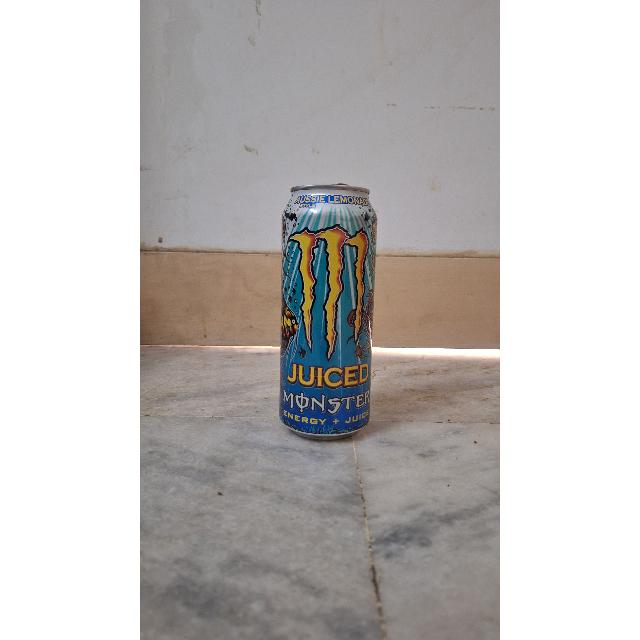Monster Aussie Lemonade: (281, 185, 373, 438)
